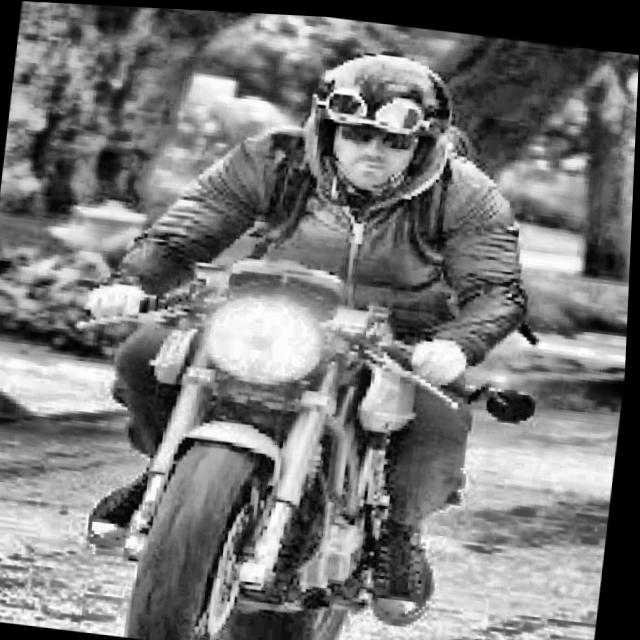motorcycle: (13, 234, 555, 640)
